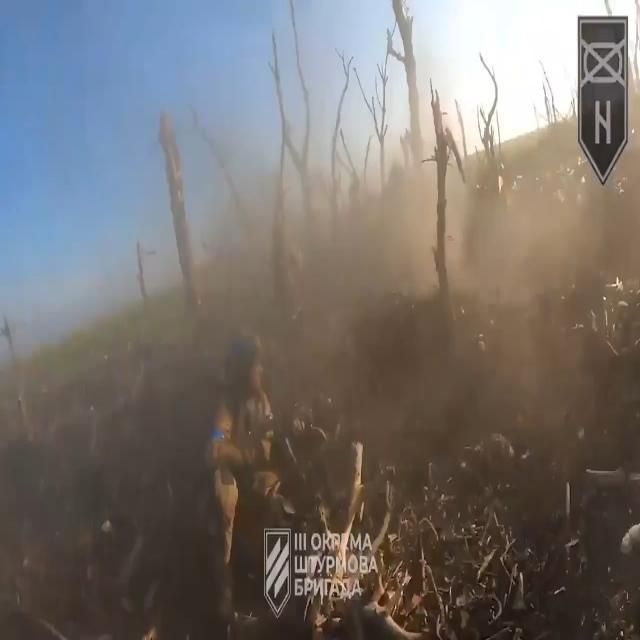MIL_Pax: (206, 338, 280, 564)
